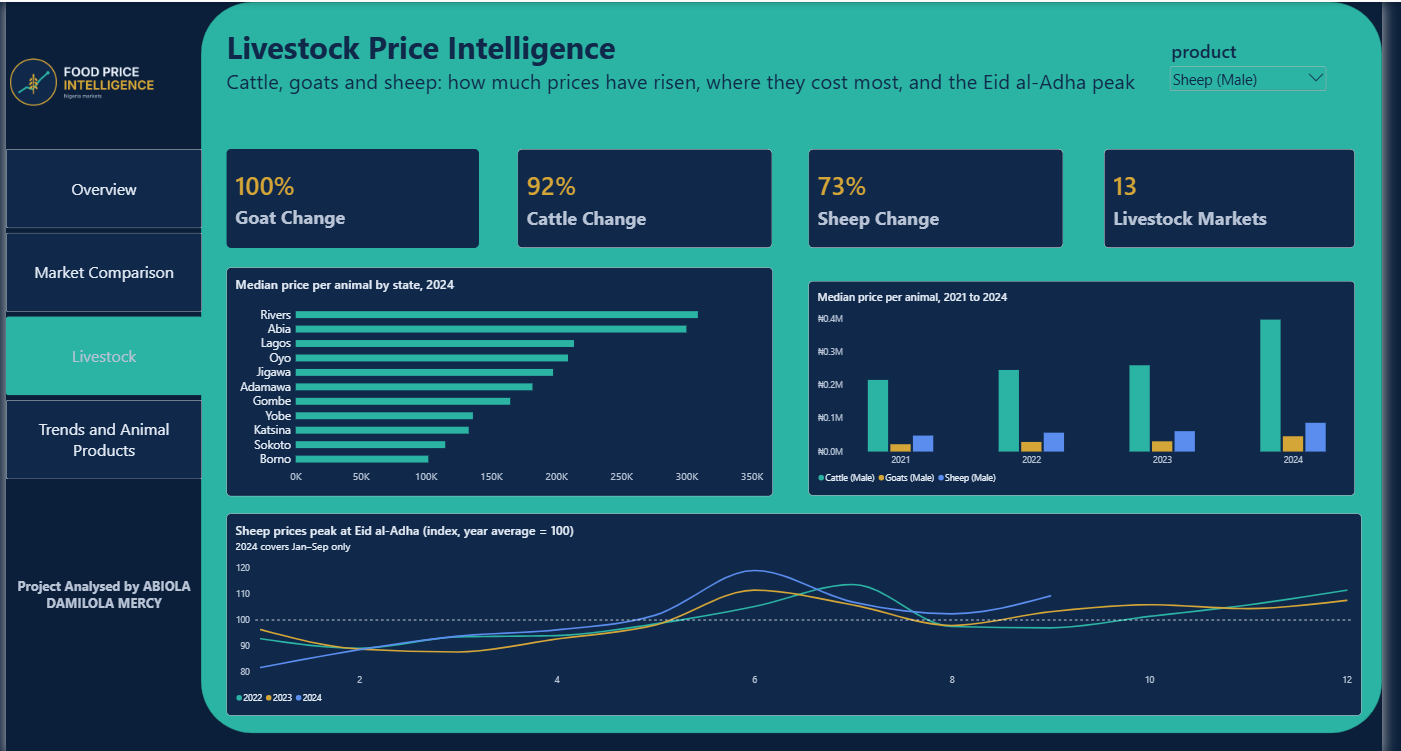

The dashboard page shown, as its layout file describes it:
{"tool":"powerbi","page":{"name":"Livestock","canvas":[2520,1380],"ordinal":2},"visuals":[{"type":"shape","box":[357.1,0,2161.5,1338.4],"z":0},{"type":"textbox","box":[403.6,44.4,2077.5,181.5],"z":1000},{"type":"cardVisual","title":"Biggest rise","fields":{"Data":["FEWS_Prices.Goat Change"]},"box":[403.6,270.3,462.9,181.5],"z":2000},{"type":"cardVisual","fields":{"Data":["FEWS_Prices.Cattle Change"]},"box":[936.9,270.3,466.6,181.5],"z":3000},{"type":"cardVisual","fields":{"Data":["FEWS_Prices.Sheep Change"]},"box":[1470.1,270.3,466.6,181.5],"z":4000},{"type":"cardVisual","fields":{"Data":["FEWS_Prices.Livestock Markets"]},"box":[2010.8,270.3,459.2,181.5],"z":5000},{"type":"pageNavigator","box":[0,270.3,359.2,607.3],"z":6000},{"type":"image","box":[0,21,359,249],"z":7000},{"type":"textbox","box":[0,1051.7,359.2,307.4],"z":8000},{"type":"lineChart","title":" Sheep prices peak at Eid al-Adha (index, year average = 100)","fields":{"Y":["FEWS_Prices.Seasonal Index"],"Category":["public bi_livestock_seasonality.month_no"],"Series":["public bi_livestock_seasonality.year"]},"box":[403.6,936.9,2077.5,370.3],"z":9000},{"type":"barChart","title":"Median price per animal by state, 2024","fields":{"Category":["public bi_livestock_state.state"],"Y":["FEWS_Prices.Livestock State Price"]},"box":[403.6,485.1,999.8,418.5],"z":10000},{"type":"clusteredColumnChart","title":"Median price per animal, 2021 to 2024","fields":{"Category":["public bi_livestock_year.year"],"Y":["FEWS_Prices.Median Livestock Price"],"Series":["Dim_Product.product"]},"box":[1470.1,511,999.8,392.5],"z":11000},{"type":"slicer","fields":{"Values":["Dim_Product.product"]},"box":[2125.6,66.7,296.3,125.9],"z":12000}]}

Visuals, with their boxes in screenshot pixels (x1, y1, x2, y2), scaled from the page's 2520x1380 canvas onto the 1401x751 screenshot:
shape: BBox(199, 0, 1400, 728)
textbox: BBox(224, 24, 1379, 123)
"Biggest rise" cardVisual: BBox(224, 147, 482, 246)
cardVisual - FEWS_Prices.Cattle Change: BBox(521, 147, 780, 246)
cardVisual - FEWS_Prices.Sheep Change: BBox(817, 147, 1077, 246)
cardVisual - FEWS_Prices.Livestock Markets: BBox(1118, 147, 1373, 246)
pageNavigator: BBox(0, 147, 200, 478)
image: BBox(0, 11, 200, 147)
textbox: BBox(0, 572, 200, 740)
" Sheep prices peak at Eid al-Adha (index, year average = 100)" lineChart: BBox(224, 510, 1379, 711)
"Median price per animal by state, 2024" barChart: BBox(224, 264, 780, 492)
"Median price per animal, 2021 to 2024" clusteredColumnChart: BBox(817, 278, 1373, 492)
slicer - Dim_Product.product: BBox(1182, 36, 1346, 105)
